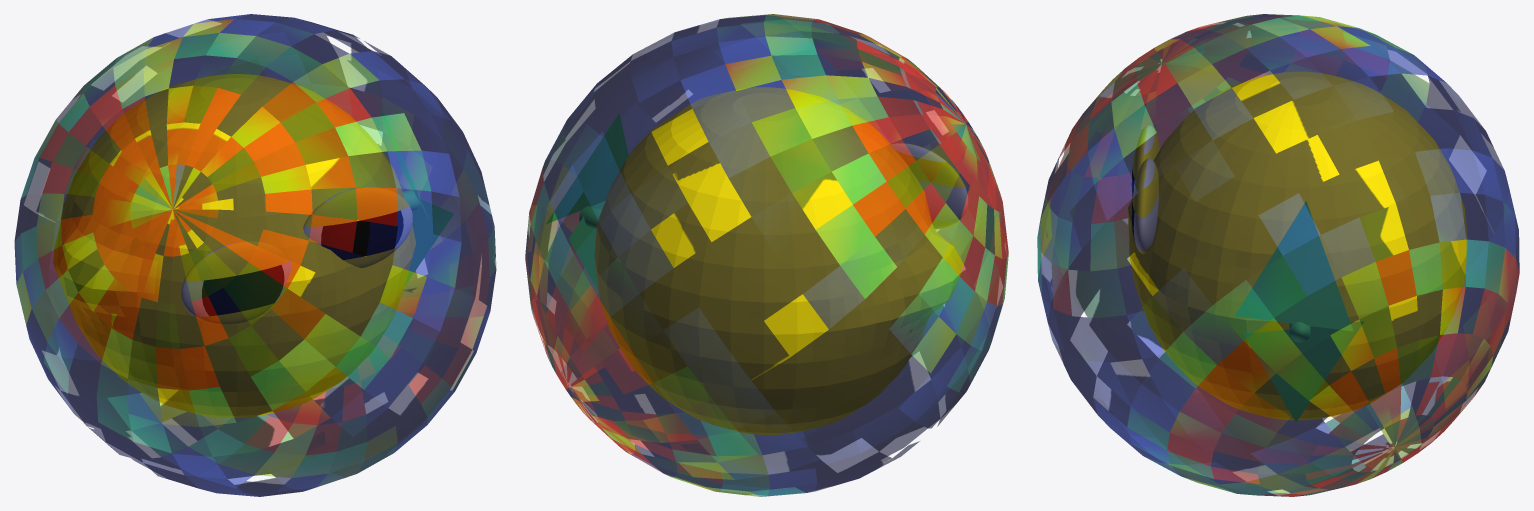
The model's file is lemon.glb.
The picture shows the model from 3 angles, left to right: view 1: azimuth 30°, elevation 25°; view 2: azimuth 150°, elevation 25°; view 3: azimuth 270°, elevation 25°; orthographic projection.
Visible parts, largest first — view 1: Sphere.010, Sphere, Sphere.002, Sphere.001, Plane.002; view 2: Sphere.010, Sphere, Sphere.002, Plane.001, Plane.002; view 3: Sphere.010, Sphere, Plane.001, Plane.002, Sphere.001, Sphere.002.
Part boxes in pixels (bbox=[...]): Sphere.010: bbox=[14, 14, 496, 496]; Sphere: bbox=[53, 74, 415, 417]; Sphere.002: bbox=[181, 241, 290, 324]; Sphere.001: bbox=[303, 187, 412, 267]; Plane.002: bbox=[405, 199, 453, 285]; Sphere.010: bbox=[525, 14, 1008, 496]; Sphere: bbox=[594, 87, 963, 434]; Sphere.002: bbox=[891, 143, 968, 228]; Plane.001: bbox=[546, 114, 628, 223]; Plane.002: bbox=[569, 201, 603, 289]; Sphere.010: bbox=[1037, 14, 1519, 496]; Sphere: bbox=[1128, 72, 1467, 419]; Plane.001: bbox=[1235, 201, 1353, 330]; Plane.002: bbox=[1244, 321, 1363, 421]; Sphere.001: bbox=[1132, 158, 1158, 253]; Sphere.002: bbox=[1132, 125, 1159, 196].
Bounding box in the file's own units: 6.87 × 6.89 × 6.86.
Materials: 5 (1 with a texture image).
